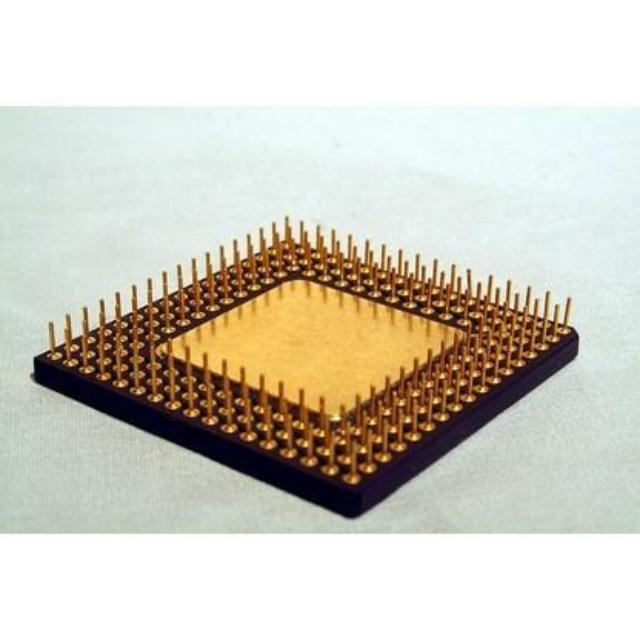CPU: (34, 212, 582, 504)
